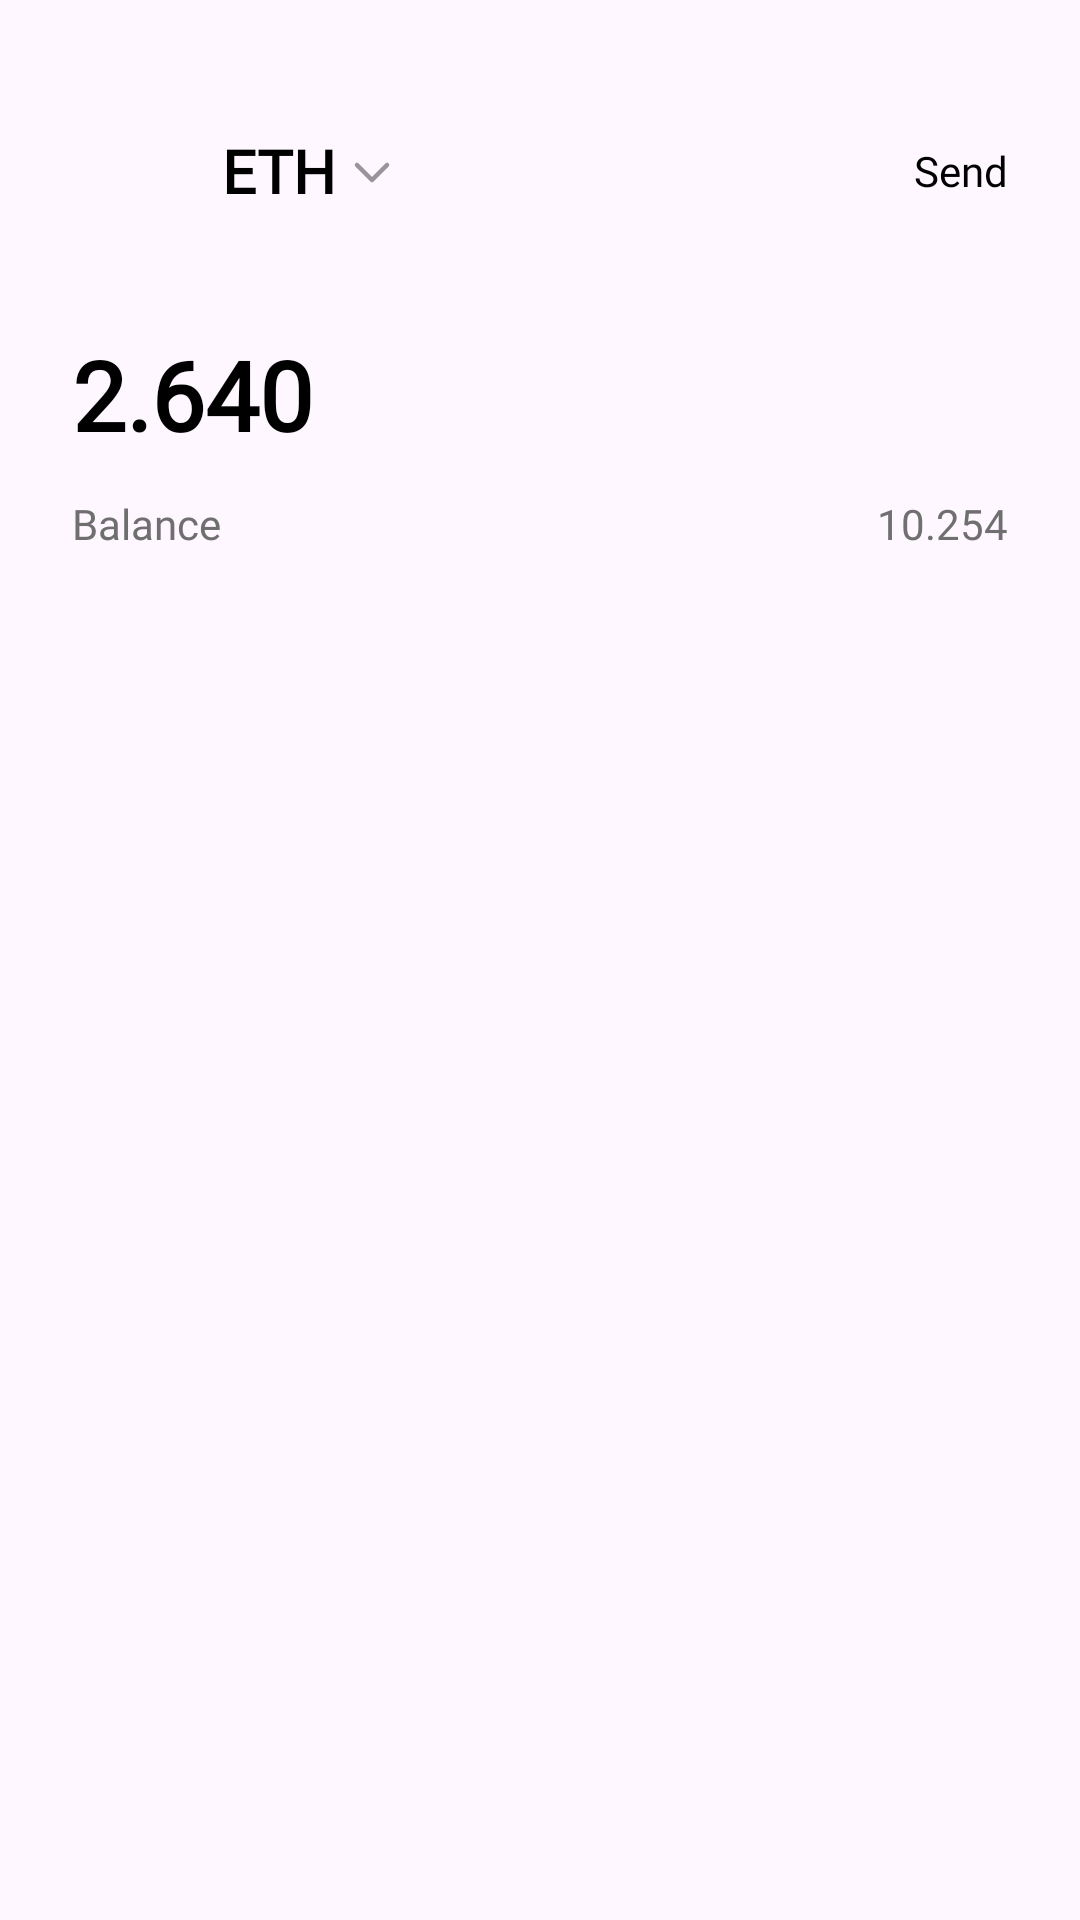

Screen size 1080w x 1920h. Icon name, then its box in pixels as [x1=x1, y1=y1, x2=x2, y2=y2]:
arrow down: [x1=355, y1=162, x2=389, y2=183]
